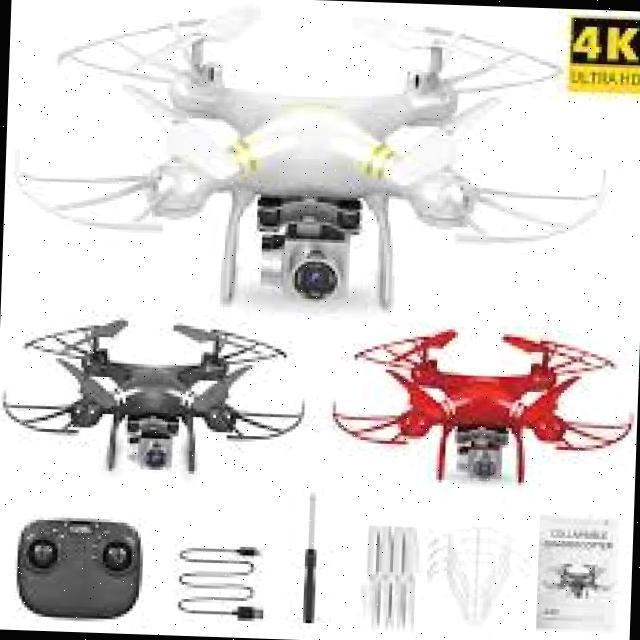drone: (8, 19, 590, 318), (325, 311, 639, 502), (4, 296, 308, 492)
